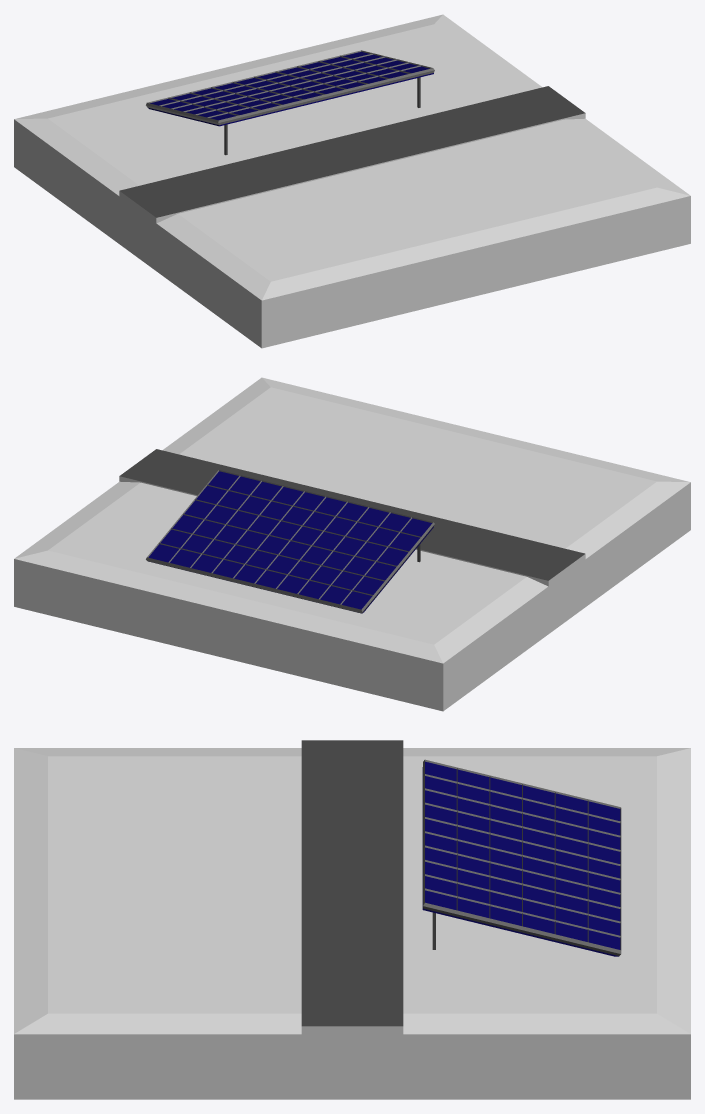
File: SolarPanel_TD 1.fbx
3 views of the same model, one above another, from view 1: azimuth 30°, elevation 25°; view 2: azimuth 150°, elevation 25°; view 3: azimuth 270°, elevation 25° (orthographic). The views are drawn at different scales.
Parts seen in each view (by area): view 1: Cube; view 2: Cube; view 3: Cube.
Part boxes in pixels (x1,y1,x2,y2): Cube: [14, 14, 690, 348]; Cube: [14, 377, 690, 711]; Cube: [14, 740, 690, 1099].
Size of the model in its own units: 600 by 123 by 600.
